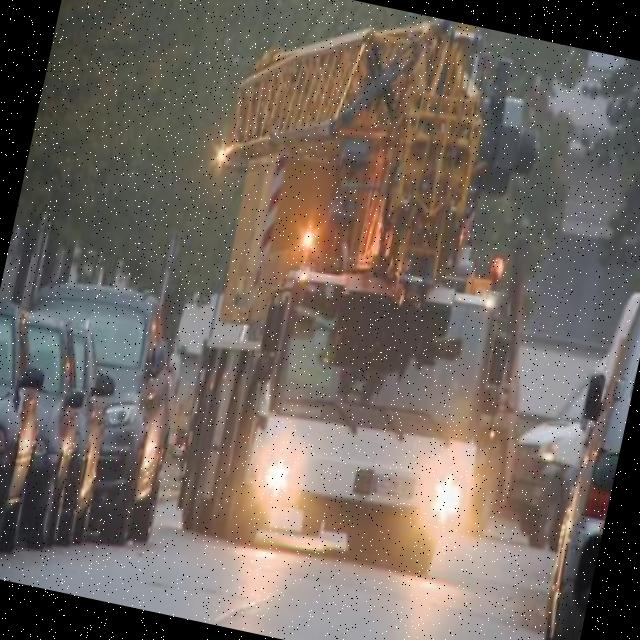Mobile Crane: (147, 0, 565, 570)
